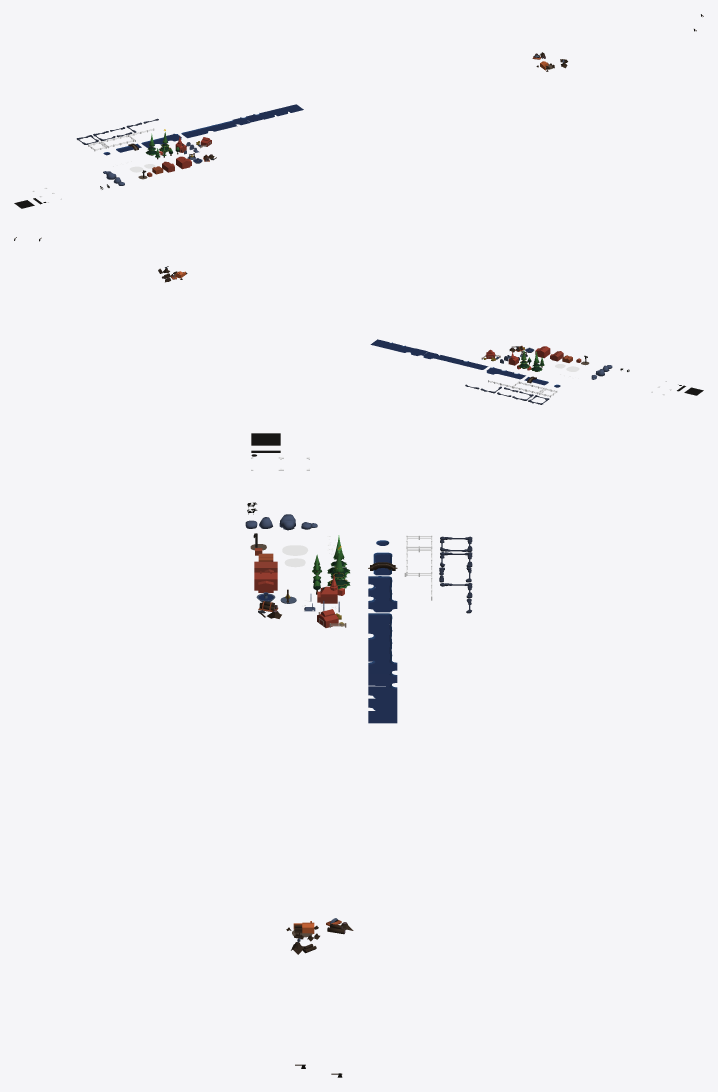
The model's file is models.glb.
The picture shows the model from 3 angles, top to bottom: view 1: azimuth 30°, elevation 25°; view 2: azimuth 150°, elevation 25°; view 3: azimuth 270°, elevation 25°; orthographic projection. The views are drawn at different scales.
Size of the model in its own units: 211 by 7.01 by 31.09.
1 material, 1 textured.
